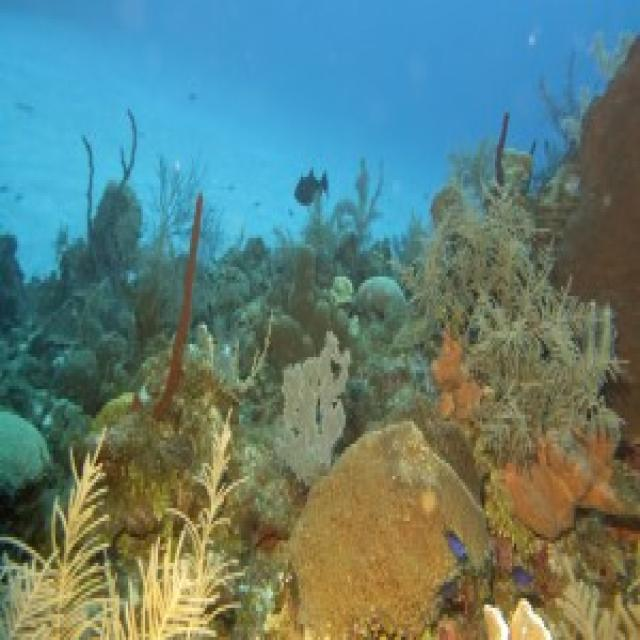Healthy: (413, 188, 620, 461), (97, 220, 236, 541), (291, 419, 487, 635), (116, 413, 244, 638), (3, 429, 108, 638), (477, 420, 626, 540), (276, 332, 349, 483), (560, 580, 639, 638), (485, 599, 551, 638)
